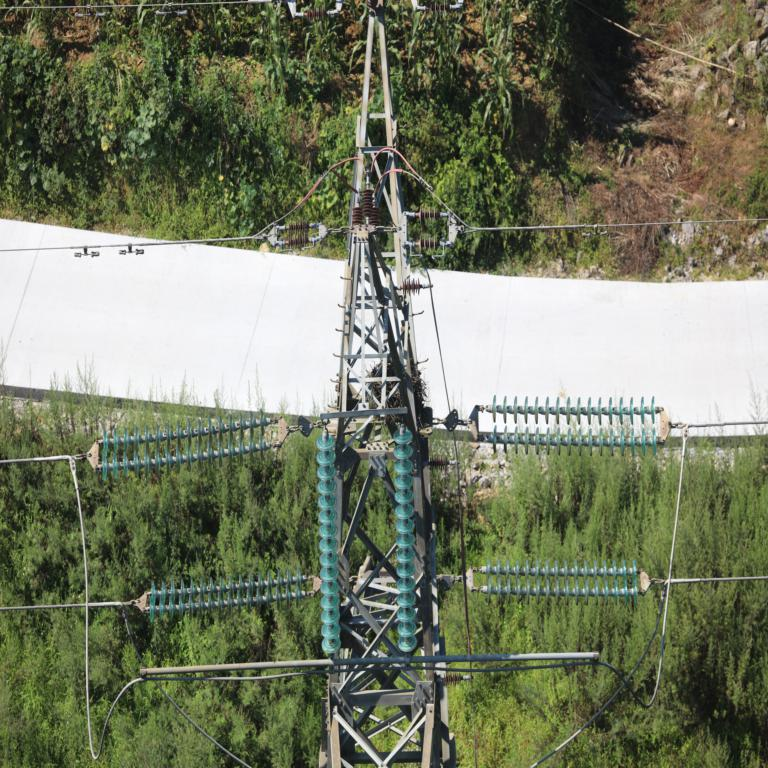nest: (368, 364, 420, 417)
